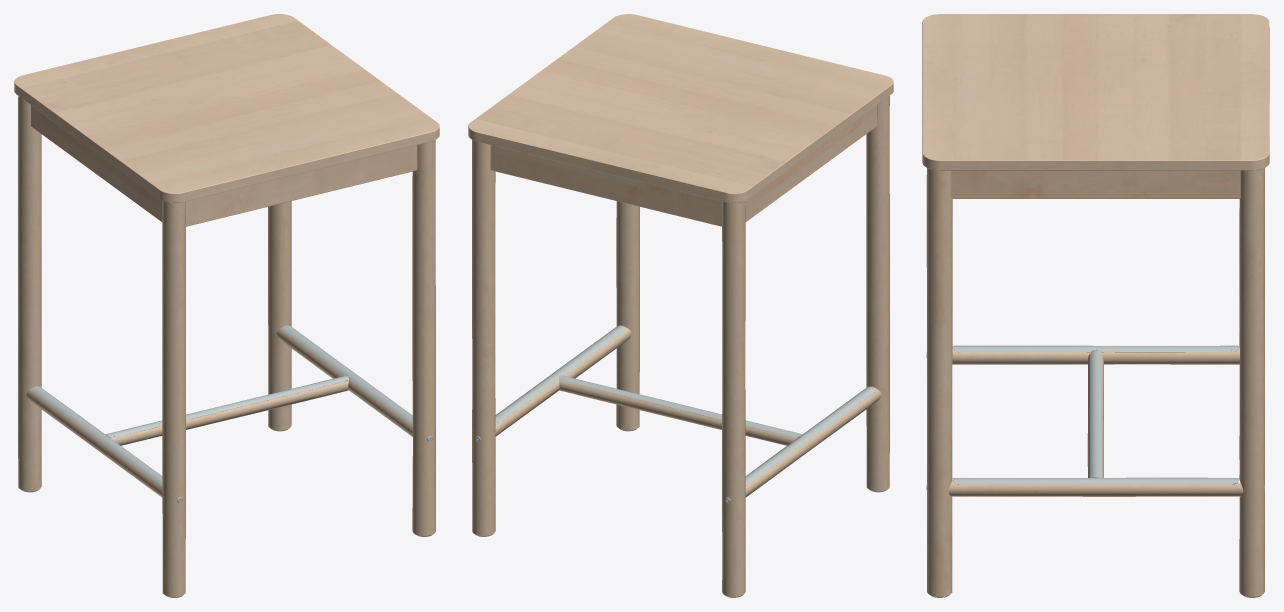
File: 05 - RÖNNINGE Bar table - birch 75x75 cm.glb
3 renders of one model, left to right at view 1: azimuth 30°, elevation 25°; view 2: azimuth 150°, elevation 25°; view 3: azimuth 270°, elevation 25°, orthographic. The views are drawn at different scales.
Visible parts, largest first — view 1: model; view 2: model; view 3: model.
Boxes of the visible parts, x1=… form: model: x1=14, y1=14, x2=439, y2=597; model: x1=468, y1=14, x2=893, y2=597; model: x1=922, y1=14, x2=1269, y2=597.
Bounding box in the file's own units: 0.75 × 1.05 × 0.7501.
Materials: 1 (1 with a texture image).
